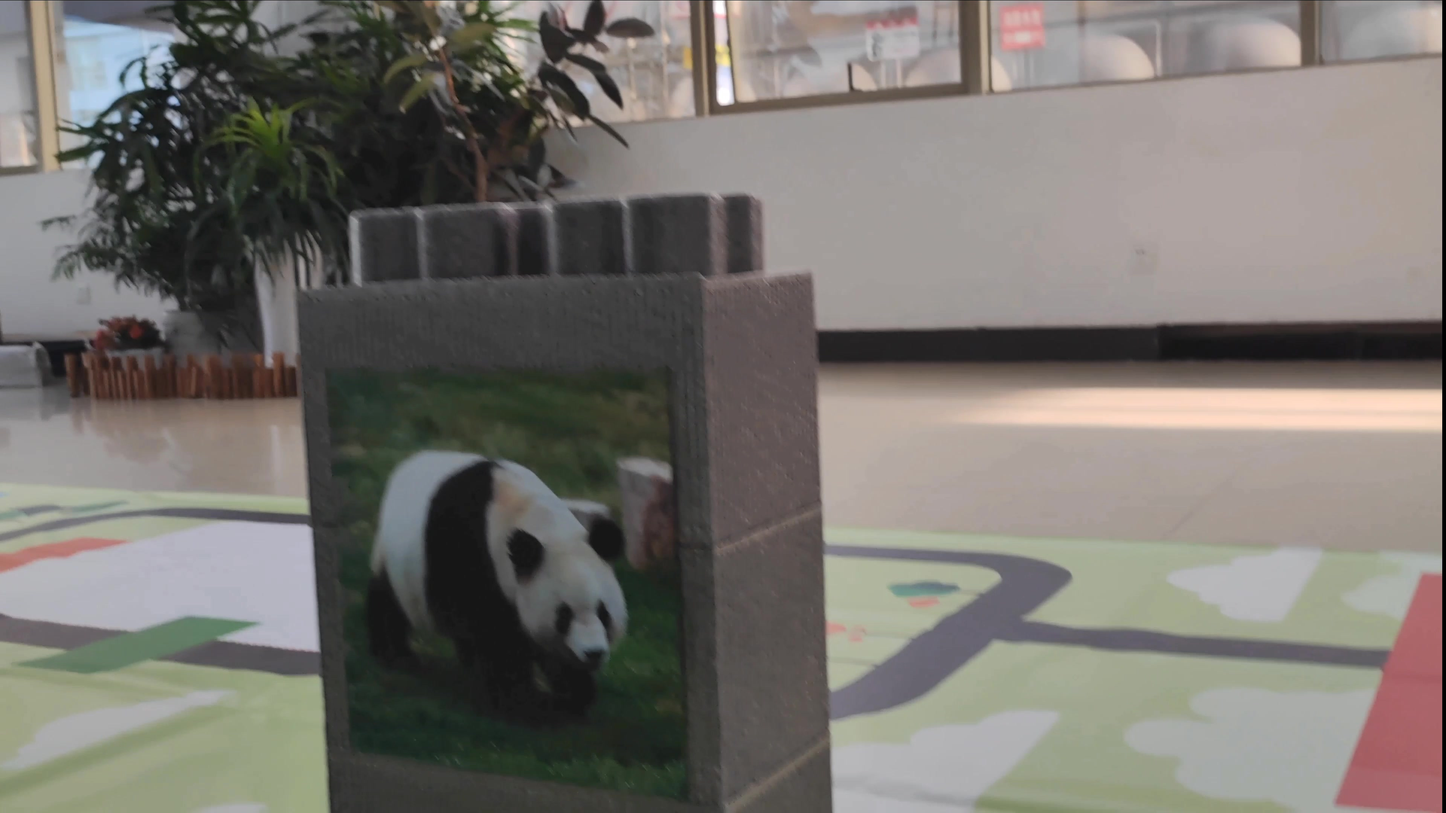panda: (356, 410, 650, 713)
